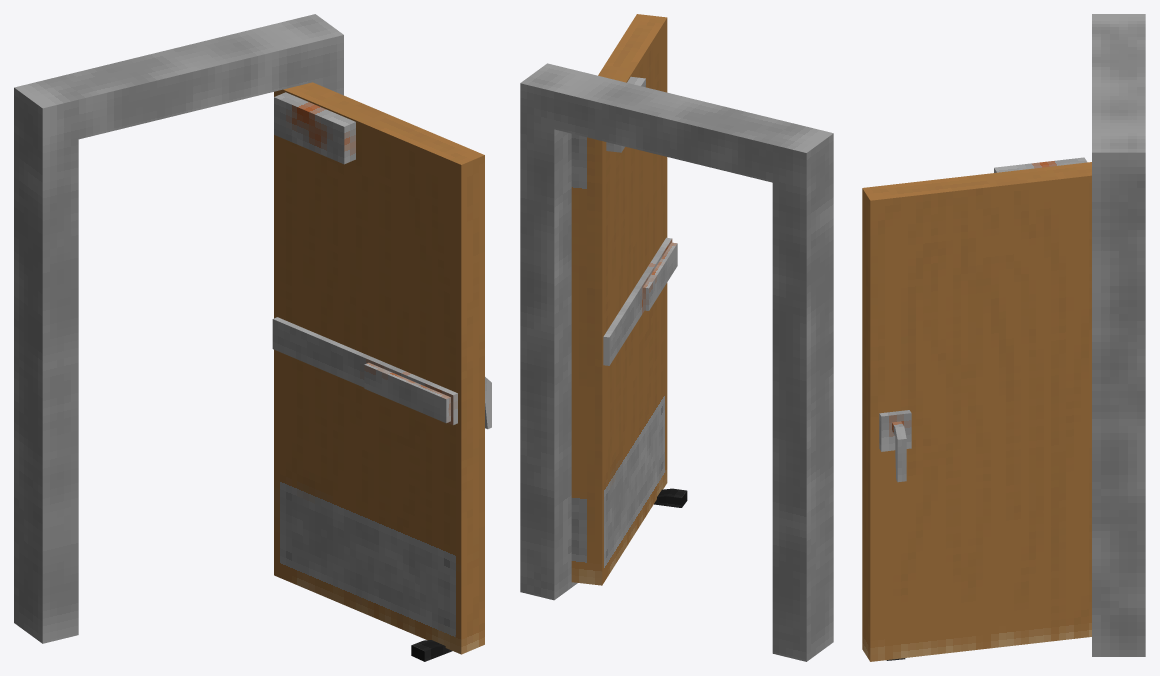
Rendered from DoorFacilityOpen.gltf.
The picture shows the model from 3 angles, left to right: view 1: azimuth 30°, elevation 25°; view 2: azimuth 150°, elevation 25°; view 3: azimuth 270°, elevation 25°; orthographic projection. The views are drawn at different scales.
Parts seen in each view (by area): view 1: door, doorFrame, pushHandle, block; view 2: doorFrame, door, pushHandle, doorStop; view 3: door, doorFrame, turnHandle, block.
Boxes of the visible parts, x1,y1,x2,y2 form: door: (274,82,484,654); doorFrame: (14,14,343,643); pushHandle: (272,317,457,425); block: (274,92,355,164); doorFrame: (520,63,833,661); door: (571,14,667,585); pushHandle: (603,237,677,365); doorStop: (654,488,687,507); door: (862,162,1091,661); doorFrame: (1092,14,1145,656); turnHandle: (879,410,911,482); block: (994,157,1087,172).
Size of the model in its own units: 1.51 by 2.23 by 1.13.
Materials: 1 (1 with a texture image).
